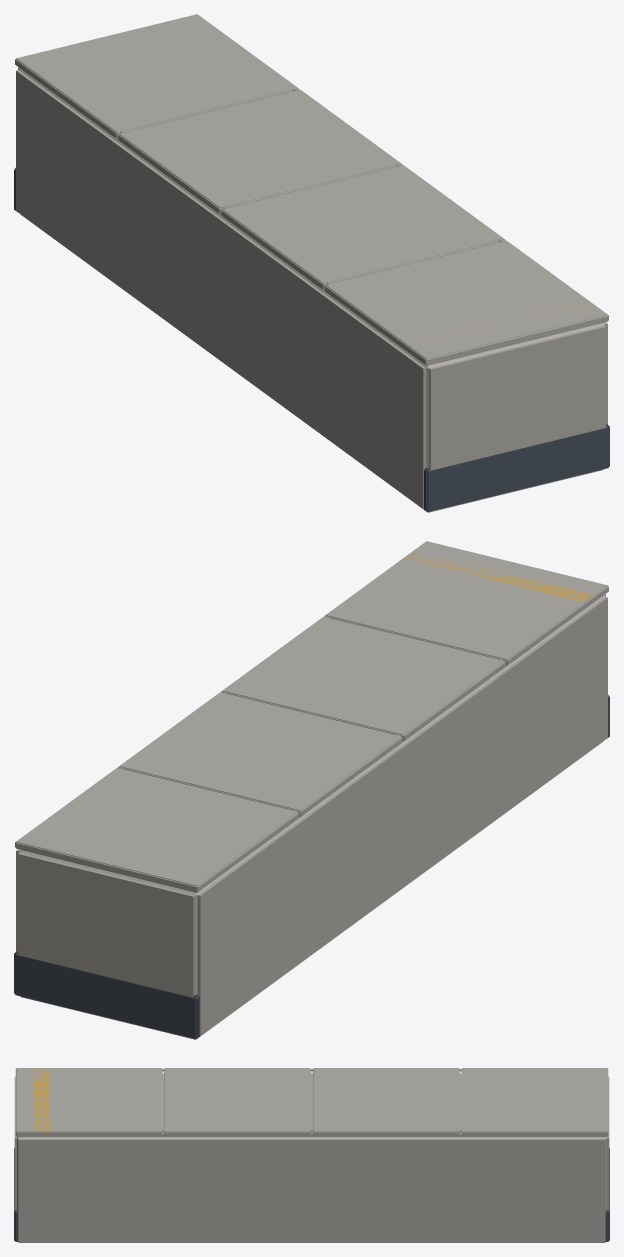
The model's file is SM_StationPlatformEndPanel_1m.glb.
3 renders of one model, top to bottom at view 1: azimuth 30°, elevation 25°; view 2: azimuth 150°, elevation 25°; view 3: azimuth 270°, elevation 25°, orthographic. The views are drawn at different scales.
Visible parts, largest first — view 1: VC_ENVKIT_SM_StationPlatformEndPanel_1m_ConcreteCore, VC_ENVKIT_SM_StationPlatformEndPanel_1m_DeckSlab_0, VC_ENVKIT_SM_StationPlatformEndPanel_1m_DeckSlab_1, VC_ENVKIT_SM_StationPlatformEndPanel_1m_DeckSlab_2, VC_ENVKIT_SM_StationPlatformEndPanel_1m_DeckSlab_3, VC_ENVKIT_SM_StationPlatformEndPanel_1m_Fascia_-1; view 2: VC_ENVKIT_SM_StationPlatformEndPanel_1m_ConcreteCore, VC_ENVKIT_SM_StationPlatformEndPanel_1m_DeckSlab_3, VC_ENVKIT_SM_StationPlatformEndPanel_1m_DeckSlab_1, VC_ENVKIT_SM_StationPlatformEndPanel_1m_DeckSlab_2, VC_ENVKIT_SM_StationPlatformEndPanel_1m_DeckSlab_0, VC_ENVKIT_SM_StationPlatformEndPanel_1m_Fascia_1, VC_ENVKIT_SM_StationPlatformEndPanel_1m_EdgeStripe; view 3: VC_ENVKIT_SM_StationPlatformEndPanel_1m_ConcreteCore, VC_ENVKIT_SM_StationPlatformEndPanel_1m_DeckSlab_3, VC_ENVKIT_SM_StationPlatformEndPanel_1m_DeckSlab_1, VC_ENVKIT_SM_StationPlatformEndPanel_1m_DeckSlab_2, VC_ENVKIT_SM_StationPlatformEndPanel_1m_DeckSlab_0, VC_ENVKIT_SM_StationPlatformEndPanel_1m_EdgeStripe.
Boxes of the visible parts, left/top/right/bottom form: VC_ENVKIT_SM_StationPlatformEndPanel_1m_ConcreteCore: left=16, top=67, right=607, bottom=512; VC_ENVKIT_SM_StationPlatformEndPanel_1m_DeckSlab_0: left=324, top=240, right=608, bottom=365; VC_ENVKIT_SM_StationPlatformEndPanel_1m_DeckSlab_1: left=221, top=165, right=505, bottom=290; VC_ENVKIT_SM_StationPlatformEndPanel_1m_DeckSlab_2: left=118, top=89, right=402, bottom=214; VC_ENVKIT_SM_StationPlatformEndPanel_1m_DeckSlab_3: left=15, top=14, right=299, bottom=139; VC_ENVKIT_SM_StationPlatformEndPanel_1m_Fascia_-1: left=424, top=423, right=609, bottom=512; VC_ENVKIT_SM_StationPlatformEndPanel_1m_ConcreteCore: left=16, top=594, right=607, bottom=1039; VC_ENVKIT_SM_StationPlatformEndPanel_1m_DeckSlab_3: left=15, top=767, right=299, bottom=892; VC_ENVKIT_SM_StationPlatformEndPanel_1m_DeckSlab_1: left=221, top=616, right=505, bottom=741; VC_ENVKIT_SM_StationPlatformEndPanel_1m_DeckSlab_2: left=118, top=692, right=402, bottom=817; VC_ENVKIT_SM_StationPlatformEndPanel_1m_DeckSlab_0: left=324, top=541, right=608, bottom=666; VC_ENVKIT_SM_StationPlatformEndPanel_1m_Fascia_1: left=14, top=950, right=199, bottom=1039; VC_ENVKIT_SM_StationPlatformEndPanel_1m_EdgeStripe: left=404, top=551, right=593, bottom=601; VC_ENVKIT_SM_StationPlatformEndPanel_1m_ConcreteCore: left=14, top=1073, right=609, bottom=1242; VC_ENVKIT_SM_StationPlatformEndPanel_1m_DeckSlab_3: left=461, top=1068, right=608, bottom=1136; VC_ENVKIT_SM_StationPlatformEndPanel_1m_DeckSlab_1: left=164, top=1068, right=311, bottom=1136; VC_ENVKIT_SM_StationPlatformEndPanel_1m_DeckSlab_2: left=312, top=1068, right=459, bottom=1136; VC_ENVKIT_SM_StationPlatformEndPanel_1m_DeckSlab_0: left=15, top=1068, right=162, bottom=1136; VC_ENVKIT_SM_StationPlatformEndPanel_1m_EdgeStripe: left=34, top=1068, right=49, bottom=1131.
Size of the model in its own units: 0.992 by 0.8 by 3.85.
